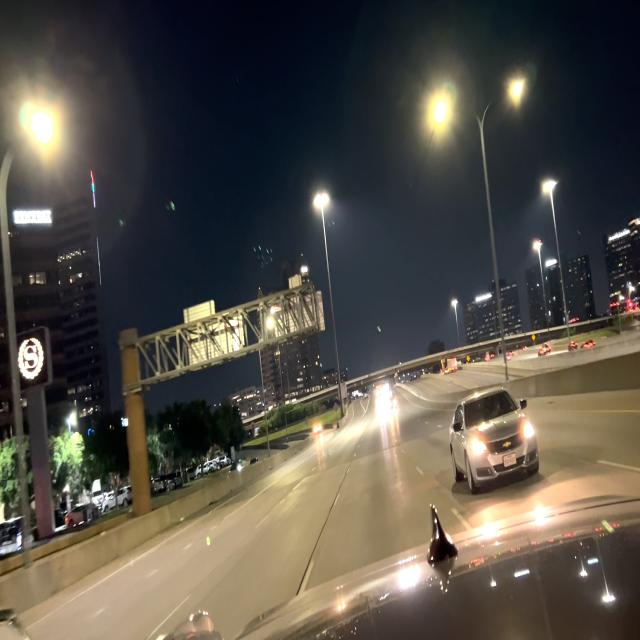back-of-sign: (262, 276, 325, 345), (184, 299, 246, 368)
